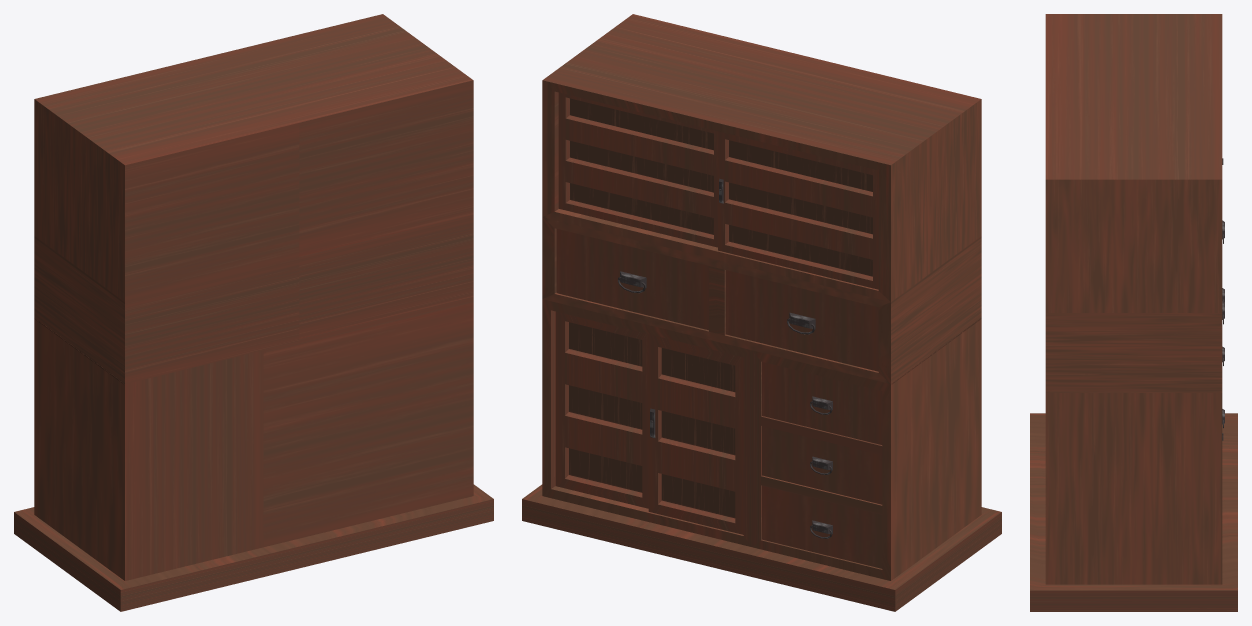
The model's file is tana.fbx.
3 views of the same model, side by side, from view 1: azimuth 30°, elevation 25°; view 2: azimuth 150°, elevation 25°; view 3: azimuth 270°, elevation 25° (orthographic). The views are drawn at different scales.
Visible parts, largest first — view 1: tana2, tana1; view 2: tana2, tana1, tana2.Slide.R, tana2.Slide.L, tana1.Slide.R, tana1.Slide.L, tana2.002, tana2.001, tana1.001, tana1.003, tana1.002; view 3: tana2, tana1.
Boxes of the visible parts, left/top/right/bottom form: tana2: left=34, top=14, right=473, bottom=383; tana1: left=14, top=299, right=493, bottom=611; tana2: left=542, top=14, right=981, bottom=383; tana1: left=522, top=299, right=1001, bottom=611; tana2.Slide.R: left=718, top=131, right=878, bottom=289; tana2.Slide.L: left=558, top=92, right=717, bottom=247; tana1.Slide.R: left=648, top=334, right=743, bottom=534; tana1.Slide.L: left=555, top=311, right=648, bottom=508; tana2.002: left=726, top=270, right=878, bottom=371; tana2.001: left=556, top=229, right=708, bottom=330; tana1.001: left=762, top=362, right=882, bottom=444; tana1.003: left=762, top=485, right=882, bottom=568; tana1.002: left=762, top=426, right=882, bottom=504; tana2: left=1045, top=14, right=1222, bottom=392; tana1: left=1030, top=393, right=1237, bottom=611.
Size of the model in its own units: 1.07 by 1.2 by 0.5305.
1 material, 1 textured.
